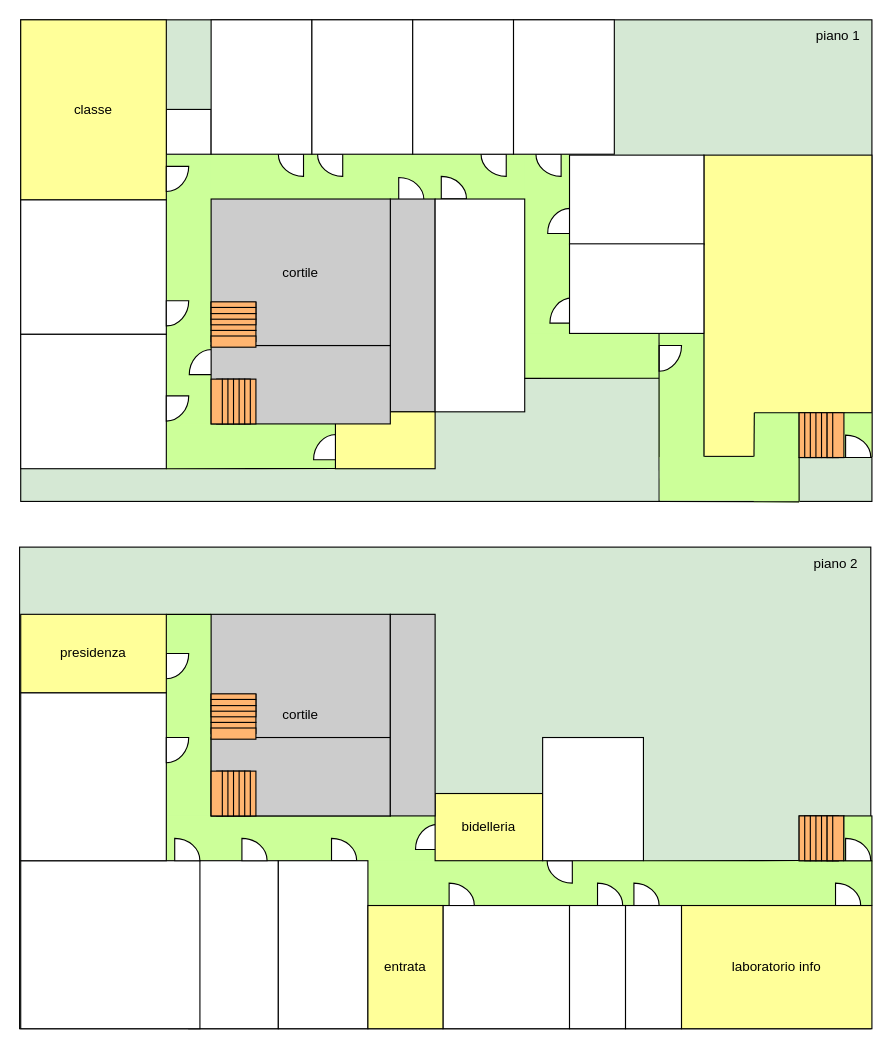
Some shapes in this 893 by 1048 pixel diagram are drawn without their labels. Here are the shapes that lost their labels. From the top down, the box of each, then its label:
(210, 153, 525, 199): corridoio
(703, 154, 872, 456): giardino
(334, 411, 435, 469): bagno
